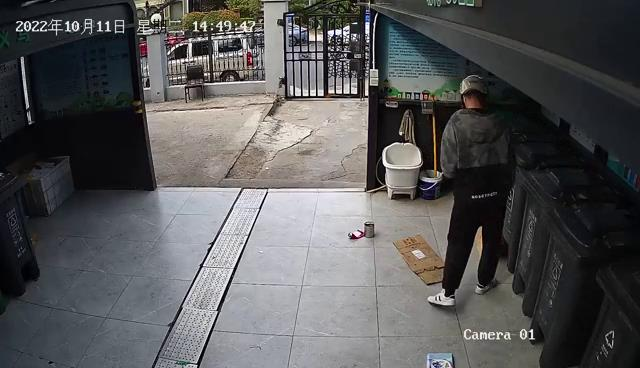lvzhipin: (362, 218, 377, 240), (347, 227, 366, 240)
person: (424, 71, 522, 312)
zhizhipin: (390, 231, 450, 289)
